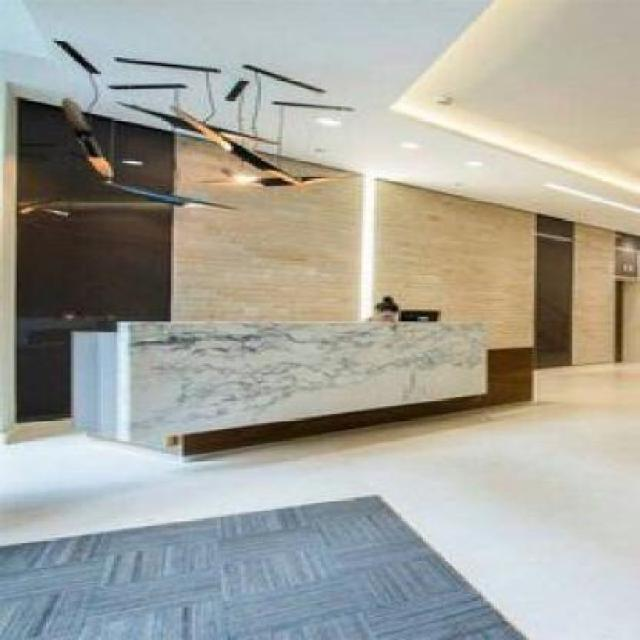frontdesk: (62, 308, 500, 462)
